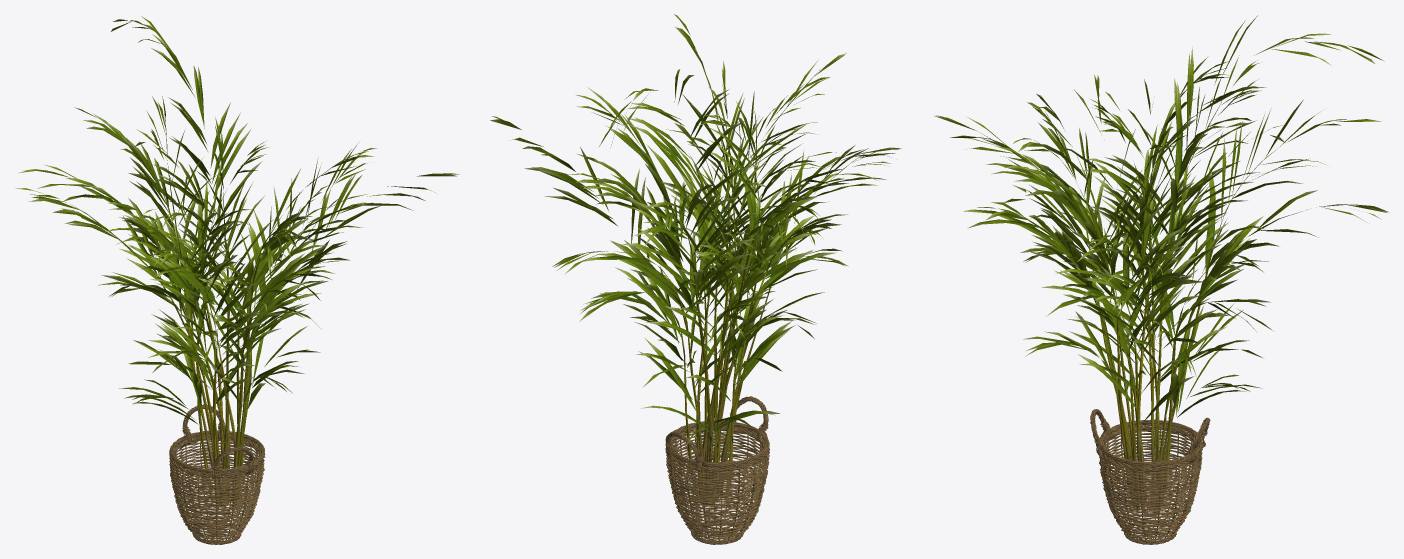
Rendered from conpany38.gltf.
3 renders of one model, left to right at view 1: azimuth 30°, elevation 25°; view 2: azimuth 150°, elevation 25°; view 3: azimuth 270°, elevation 25°, orthographic. The views are drawn at different scales.
Parts seen in each view (by area): view 1: G-stem_1, G-stem_2, G-stem; view 2: G-stem_1, G-stem_2, G-stem; view 3: G-stem_1, G-stem_2, G-stem.
Boxes of the visible parts, x1,y1,x2,y2 form: G-stem_1: (15,16,459,424); G-stem_2: (169,404,265,544); G-stem: (70,114,346,510); G-stem_1: (490,14,901,458); G-stem_2: (665,396,769,544); G-stem: (582,48,864,504); G-stem_1: (934,15,1388,421); G-stem_2: (1090,409,1210,544); G-stem: (974,74,1351,510).
Size of the model in its own units: 7.6 by 9.04 by 7.34.
Materials: 3 (3 with a texture image).
